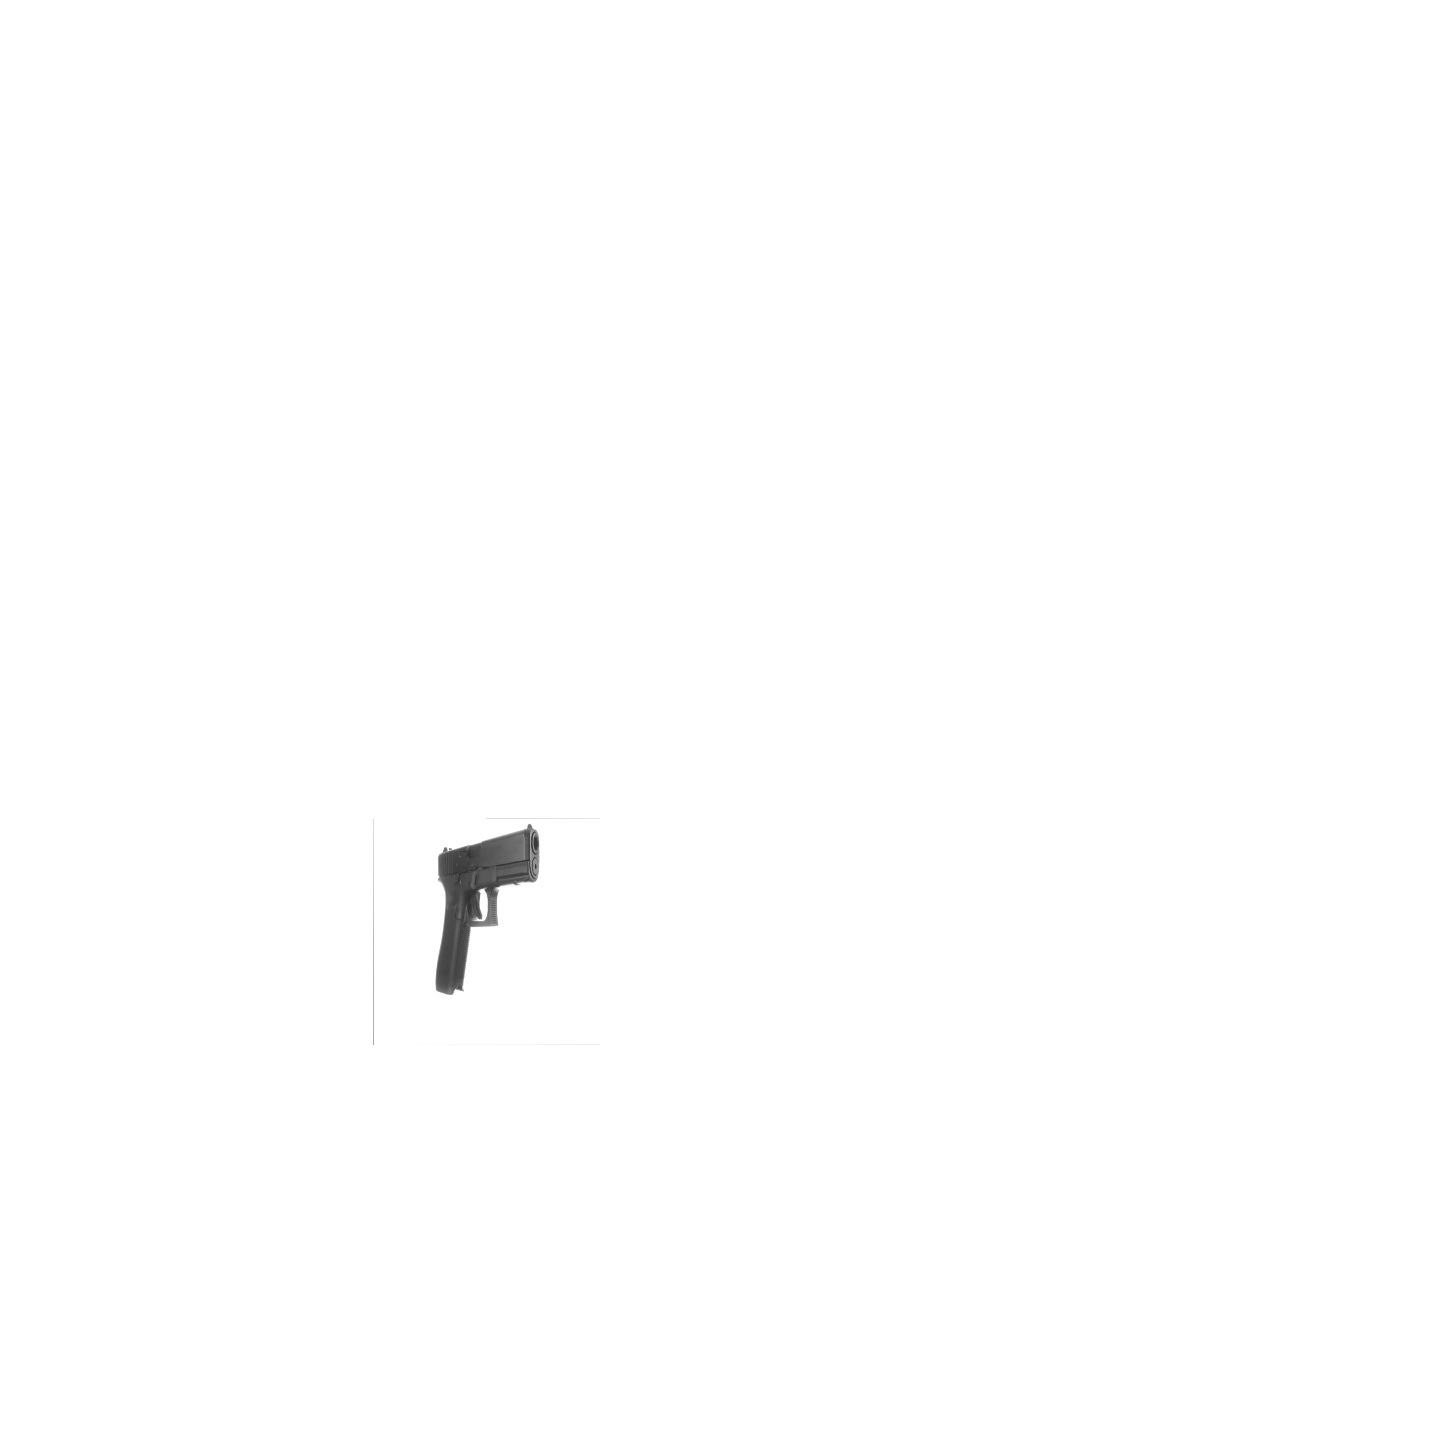gun: (435, 824, 540, 996)
